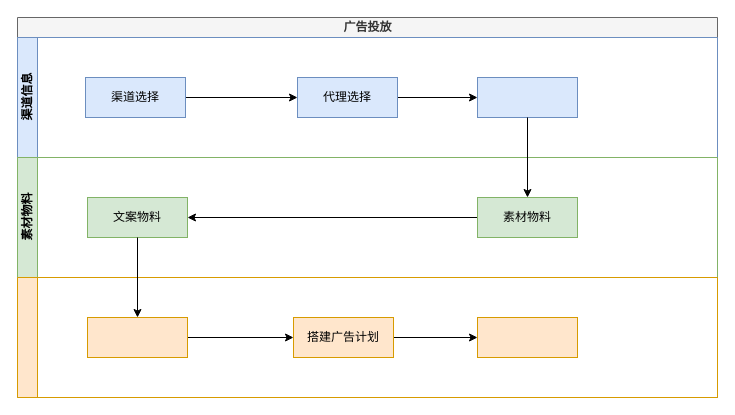
Image size: 735x415. Some labels were removed from this diagram. Here are the shapes that lost their labels. From the top down, the box of each, then its label:
(476, 76, 578, 118): 账号选择
(86, 316, 188, 358): 搭建广告组
(16, 276, 718, 398): 广告信息
(476, 316, 578, 358): 搭建广告创意
